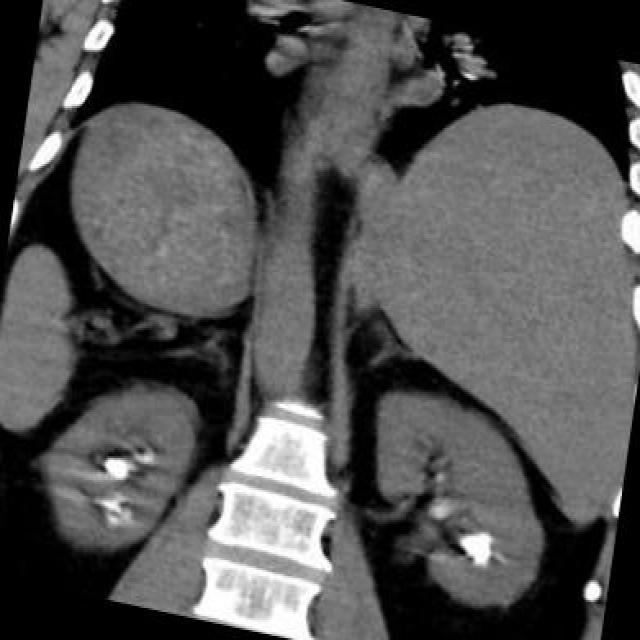Tas_Var: (71, 483, 135, 535), (449, 520, 500, 574), (419, 490, 455, 530), (96, 450, 133, 488), (421, 462, 452, 488), (131, 441, 159, 467), (98, 495, 116, 511)
